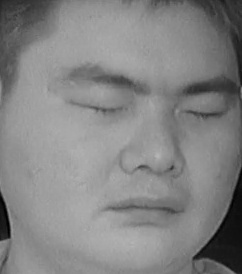blink: (72, 85, 129, 122), (182, 94, 228, 130)
mouth: (104, 184, 188, 233)
